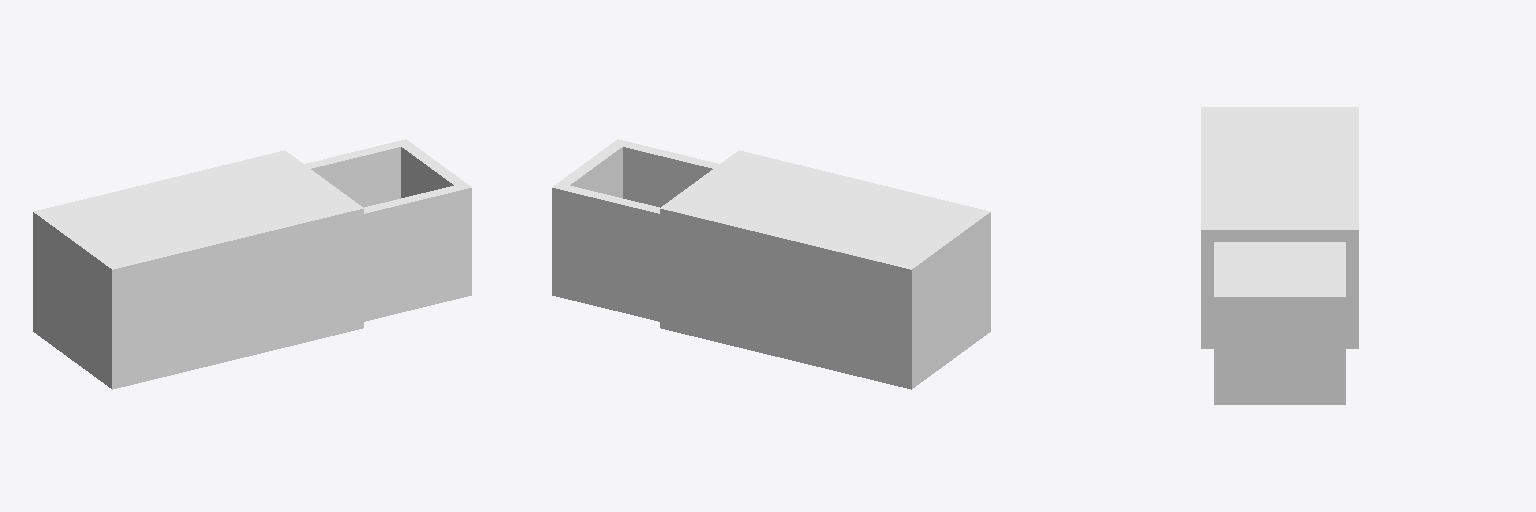
Rendered from 500LbxE.obj.
3 views of the same model, side by side, from view 1: azimuth 30°, elevation 25°; view 2: azimuth 150°, elevation 25°; view 3: azimuth 270°, elevation 25° (orthographic).
Parts seen in each view (by area): view 1: object 1; view 2: object 1; view 3: object 1.
Boxes of the visible parts, box(x1,y1,x2,y2) form: object 1: box(33, 139, 471, 389); object 1: box(552, 139, 990, 389); object 1: box(1201, 107, 1358, 404).
Size of the model in its own units: 3.2 by 1 by 1.2.